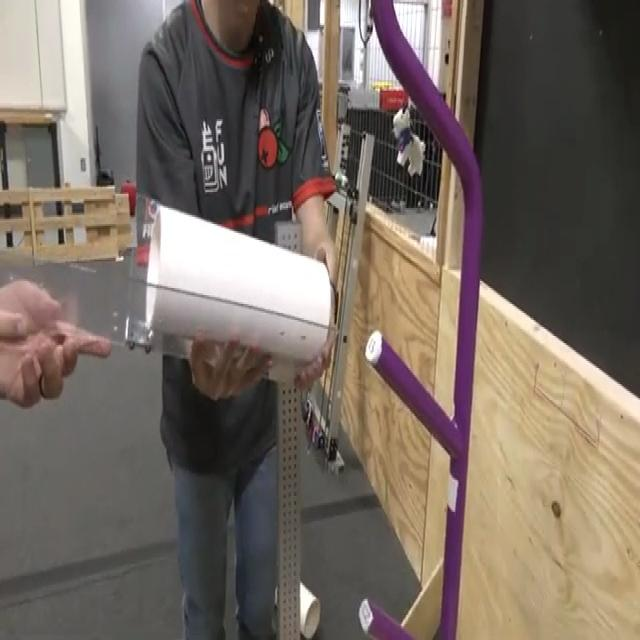Coral: (143, 199, 334, 365)
